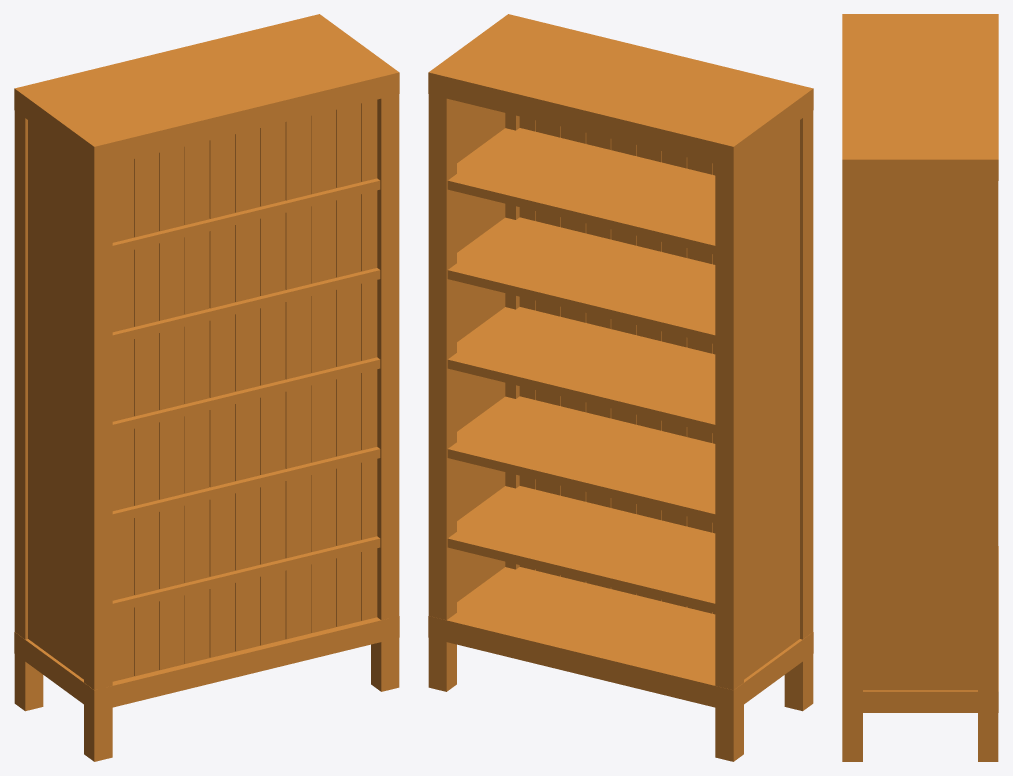
The model's file is Bookcase.obj.
The picture shows the model from 3 angles, left to right: view 1: azimuth 30°, elevation 25°; view 2: azimuth 150°, elevation 25°; view 3: azimuth 270°, elevation 25°; orthographic projection. The views are drawn at different scales.
Parts seen in each view (by area): view 1: node-0_buffer-0-mesh-0; view 2: node-0_buffer-0-mesh-0; view 3: node-0_buffer-0-mesh-0.
Part boxes in pixels (x1,y1,x2,y2): node-0_buffer-0-mesh-0: (14,14,399,761); node-0_buffer-0-mesh-0: (428,14,813,761); node-0_buffer-0-mesh-0: (842,14,998,761).
Bounding box in the file's own units: 333848 × 643054 × 151248.
